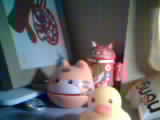duck: (73, 81, 130, 117)
